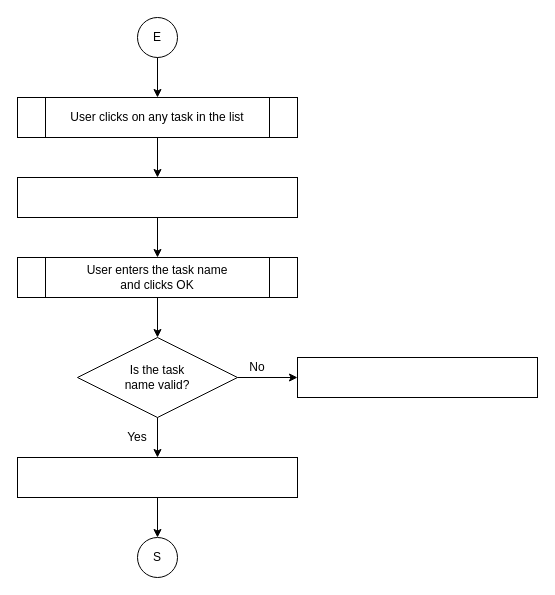
Image size: 555x595. Some labels were removed from this diagram. Here are the shapes that lost their labels. From the top down, the centre of each, then its label:
At point 157,197: "Edit Task dialog opens".
At point 417,377: "Validation error is shown on the dialog form".
At point 157,477: "Dialog is closed and the task is added to the list".
